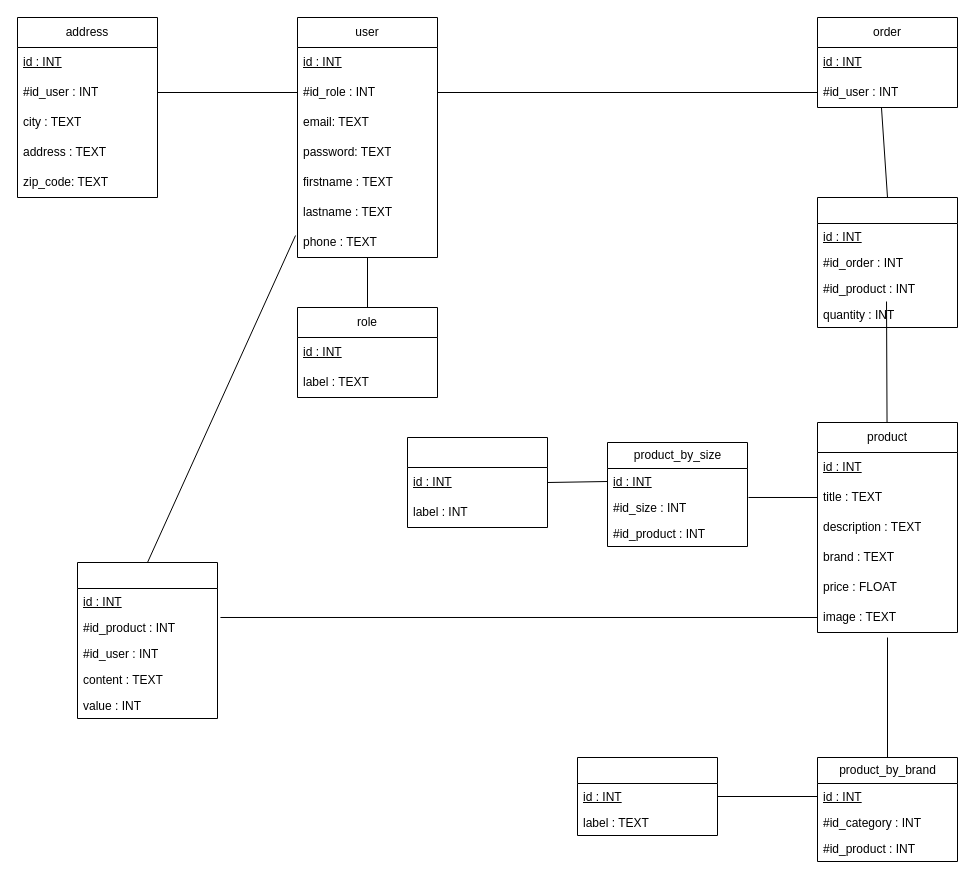
Some shapes in this 975 by 882 pixel diagram are drawn without their labels. The box of each missing label's shape, as (x1, y1, x2, y2) in pixels:
brand: (576, 756, 718, 836)
comment: (76, 562, 218, 718)
order_line: (816, 196, 958, 328)
size: (406, 436, 548, 528)
